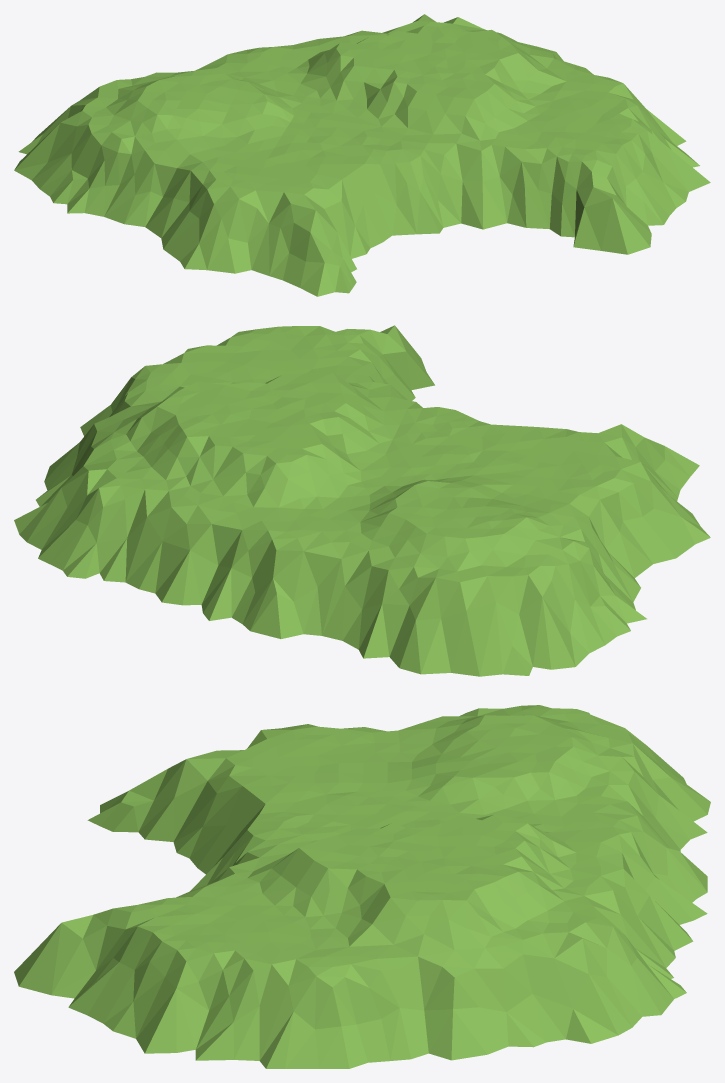
Rendered from MT_Island_L_b_01.fbx.
The picture shows the model from 3 angles, top to bottom: view 1: azimuth 30°, elevation 25°; view 2: azimuth 150°, elevation 25°; view 3: azimuth 270°, elevation 25°; orthographic projection. The views are drawn at different scales.
Parts seen in each view (by area): view 1: MT_Island_L_b_01; view 2: MT_Island_L_b_01; view 3: MT_Island_L_b_01.
Part boxes in pixels (<box>): MT_Island_L_b_01: <box>14,14,710,296</box>; MT_Island_L_b_01: <box>14,325,710,676</box>; MT_Island_L_b_01: <box>14,705,710,1068</box>.
Bounding box in the file's own units: 9897 × 1431 × 8936.
